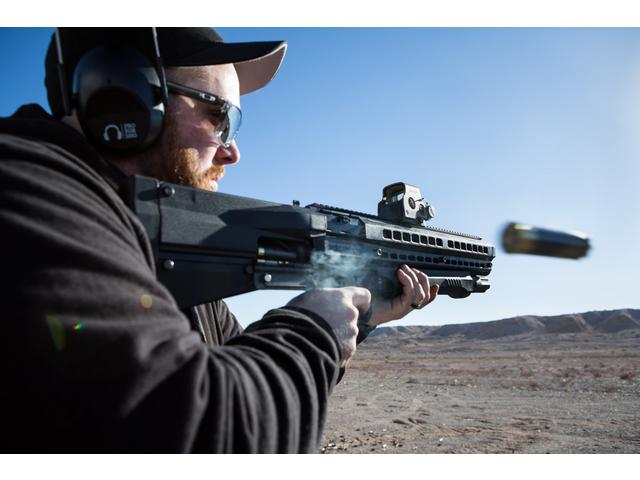rifle: (115, 171, 502, 352)
